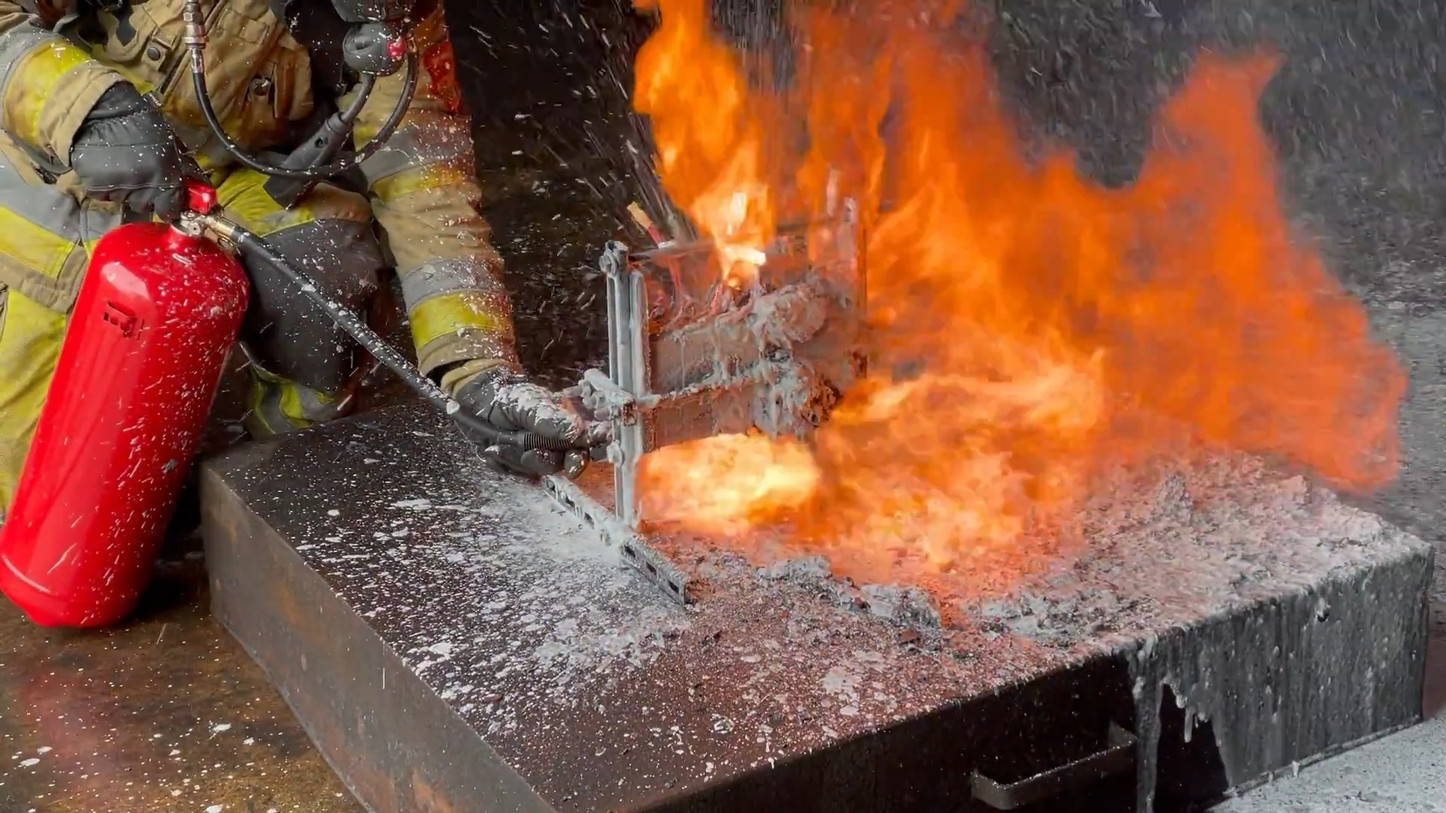fire: (630, 0, 1414, 595)
